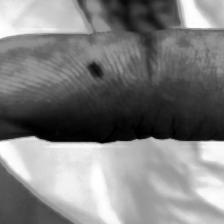Benign Marking or Mole: (84, 58, 115, 86)
